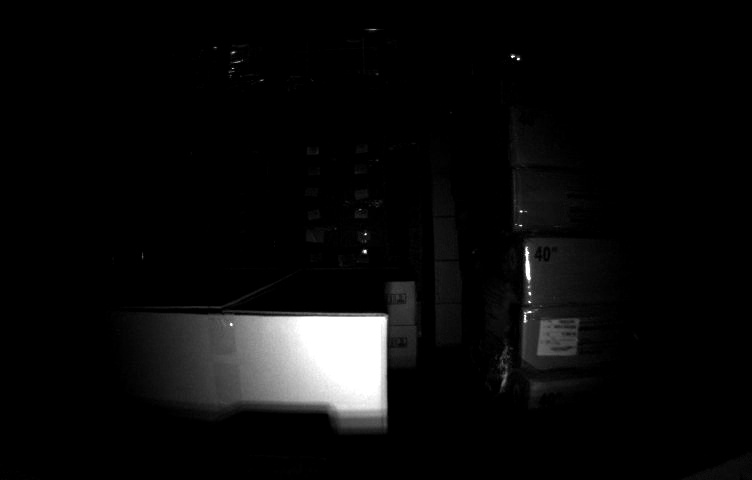True Barcode: (537, 317, 578, 354)
